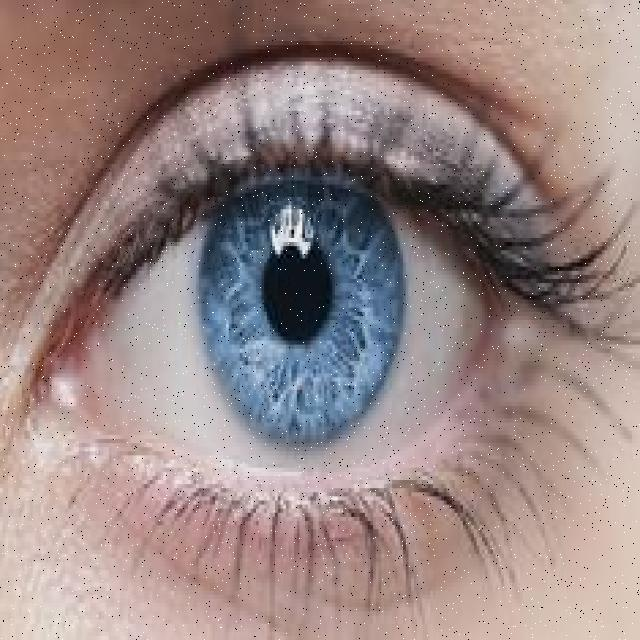Normal: (0, 29, 637, 636)
